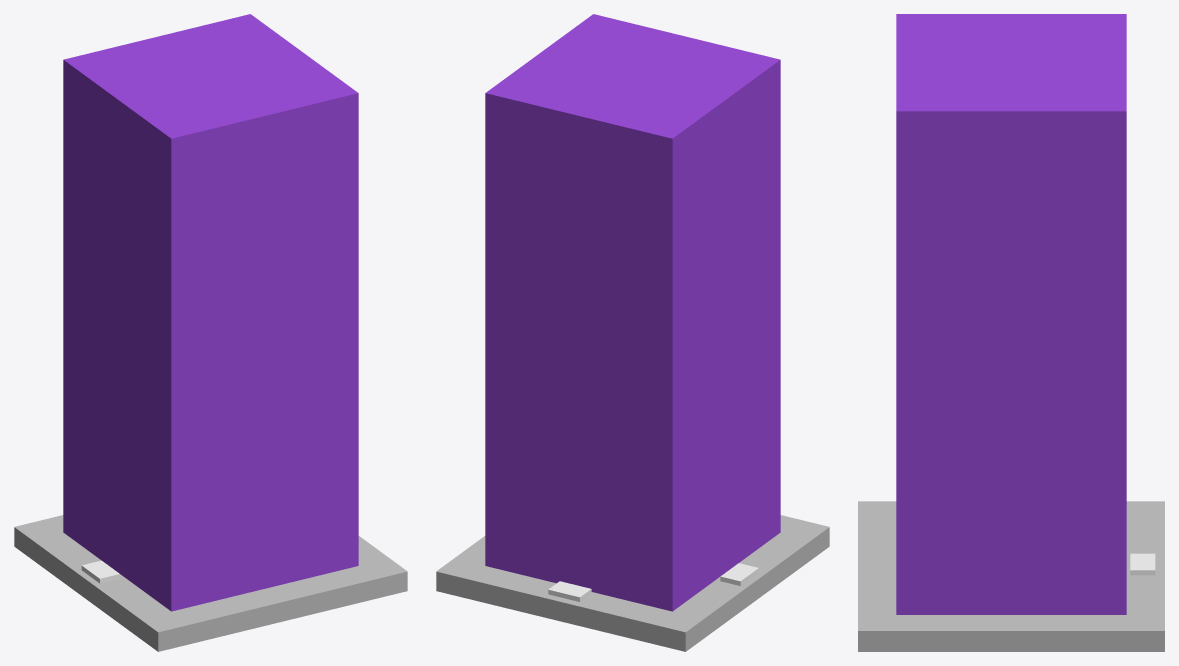
File: building2(2).fbx
3 views of the same model, side by side, from view 1: azimuth 30°, elevation 25°; view 2: azimuth 150°, elevation 25°; view 3: azimuth 270°, elevation 25° (orthographic). The views are drawn at different scales.
Parts seen in each view (by area): view 1: Empty_Tile.007, Empty_Tile.008, Empty_Tile.006; view 2: Empty_Tile.007, Empty_Tile.008, Empty_Tile.005, Empty_Tile.006; view 3: Empty_Tile.007, Empty_Tile.008, Empty_Tile.005.
Boxes of the visible parts, x1=… form: Empty_Tile.007: x1=63, y1=14, x2=358, y2=611; Empty_Tile.008: x1=14, y1=515, x2=407, y2=651; Empty_Tile.006: x1=81, y1=560, x2=119, y2=583; Empty_Tile.007: x1=485, y1=14, x2=780, y2=611; Empty_Tile.008: x1=436, y1=515, x2=829, y2=651; Empty_Tile.005: x1=548, y1=581, x2=591, y2=601; Empty_Tile.006: x1=720, y1=563, x2=758, y2=585; Empty_Tile.007: x1=896, y1=14, x2=1126, y2=614; Empty_Tile.008: x1=858, y1=501, x2=1164, y2=651; Empty_Tile.005: x1=1130, y1=553, x2=1155, y2=575.
Bounding box in the file's own units: 800 × 1509 × 800.
